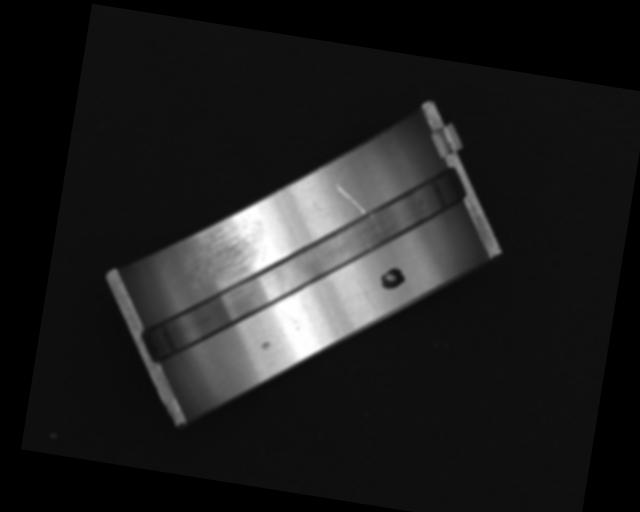blot: (377, 263, 407, 293)
bruise: (260, 338, 272, 350)
gap: (137, 123, 470, 402)
nick: (330, 184, 368, 215), (351, 277, 380, 310)
scratch: (179, 202, 269, 289)
